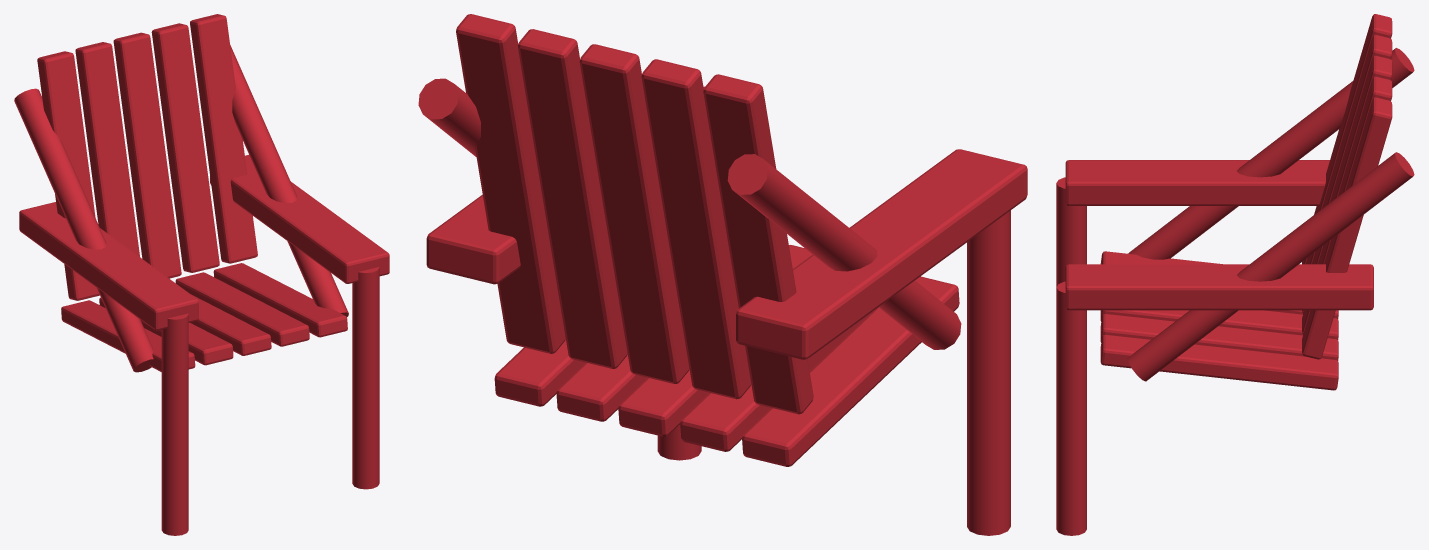
The model's file is valade-chair.glb.
3 renders of one model, left to right at view 1: azimuth 30°, elevation 25°; view 2: azimuth 150°, elevation 25°; view 3: azimuth 270°, elevation 25°, orthographic. The views are drawn at different scales.
Parts seen in each view (by area): view 1: Chair forward leg; view 2: Chair forward leg; view 3: Chair forward leg.
Boxes of the visible parts, box(x1,y1,x2,y2) form: Chair forward leg: box(14, 14, 389, 535); Chair forward leg: box(418, 14, 1027, 535); Chair forward leg: box(1056, 14, 1414, 535).
Bounding box in the file's own units: 0.74 × 1.11 × 0.8709.
